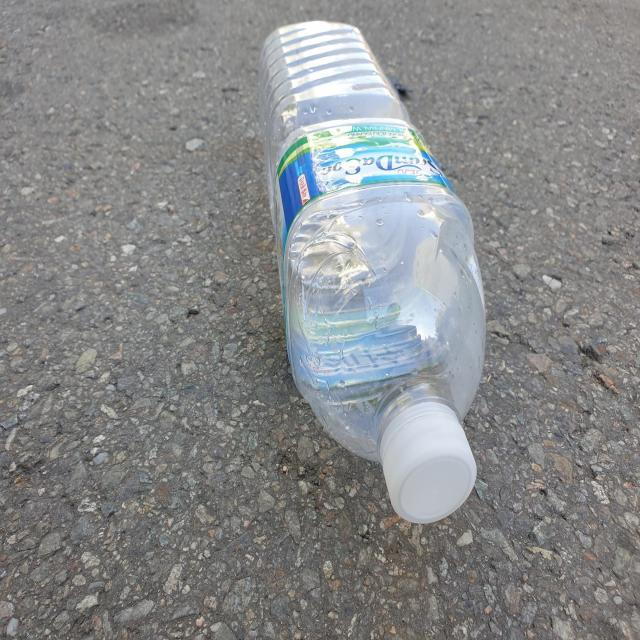plastic: (259, 20, 486, 524)
